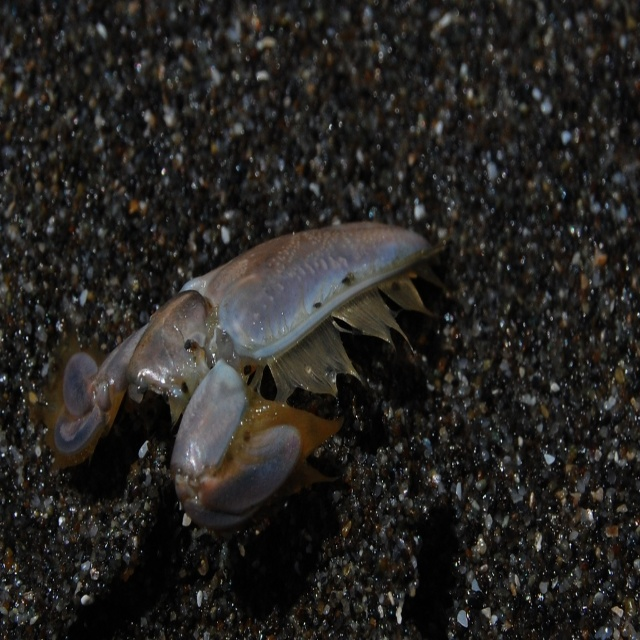Crab: (34, 223, 448, 539)
